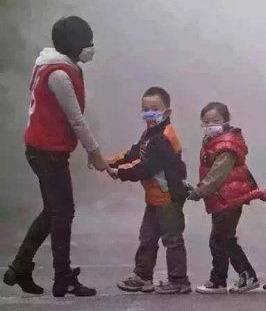person: (4, 12, 104, 300), (104, 84, 199, 298), (186, 99, 264, 297)
